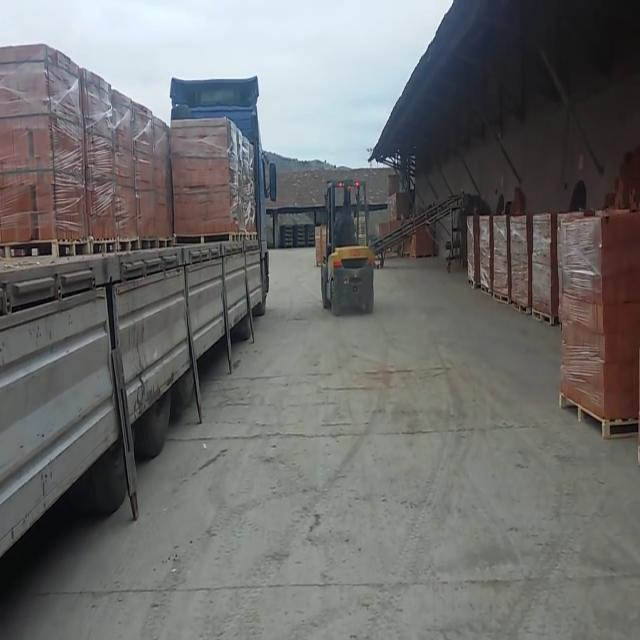forklift: (321, 182, 374, 314)
